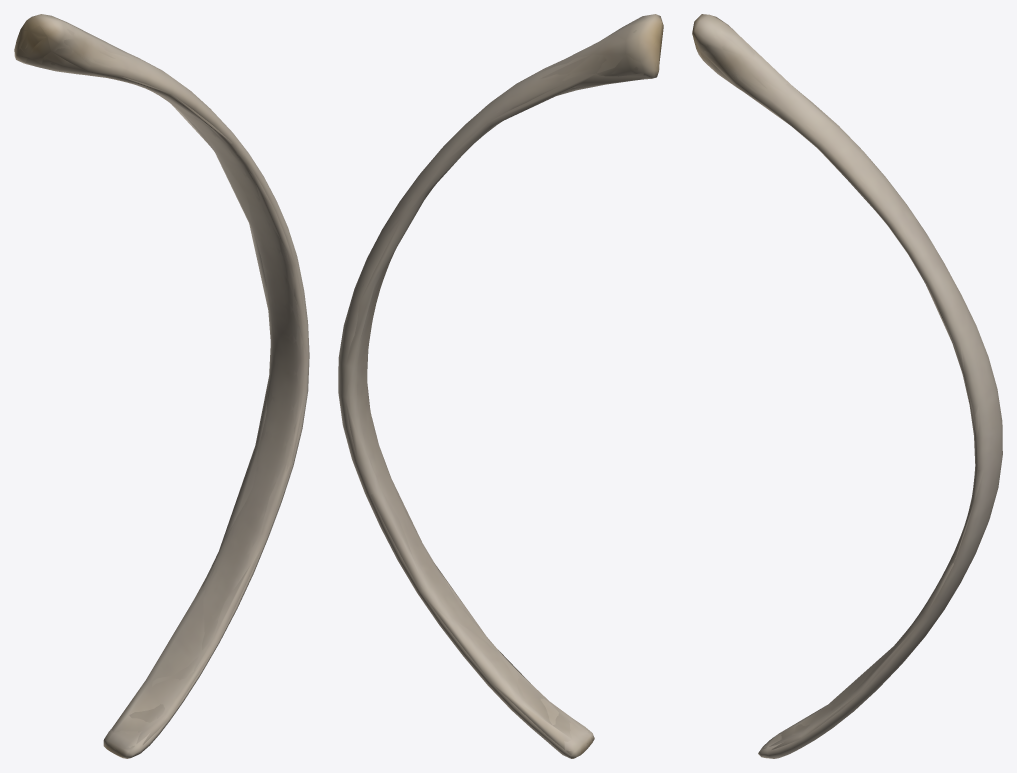
Rendered from Rib L07.fbx.
The picture shows the model from 3 angles, left to right: view 1: azimuth 30°, elevation 25°; view 2: azimuth 150°, elevation 25°; view 3: azimuth 330°, elevation 25°; orthographic projection. The views are drawn at different scales.
Visible parts, largest first — view 1: Rib L07 high, Rib L07, Rib L07 low; view 2: Rib L07, Rib L07 low, Rib L07 high; view 3: Rib L07, Rib L07 low, Rib L07 high.
Boxes of the visible parts, x1,y1,x2,y2 form: Rib L07 high: (16,29,305,754); Rib L07: (14,14,309,758); Rib L07 low: (17,14,309,756); Rib L07: (338,14,663,758); Rib L07 low: (338,14,663,758); Rib L07 high: (345,30,659,750); Rib L07: (692,14,1002,758); Rib L07 low: (692,14,993,758); Rib L07 high: (704,19,1001,756).
Bounding box in the file's own units: 7.19 × 17.28 × 2.26.
Materials: 1 (1 with a texture image).
